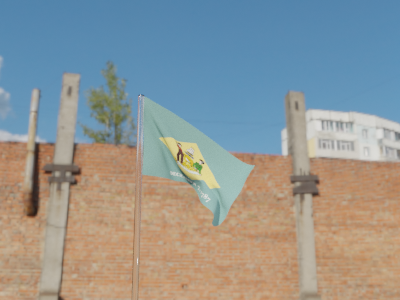Delaware flag: (142, 96, 257, 228)
